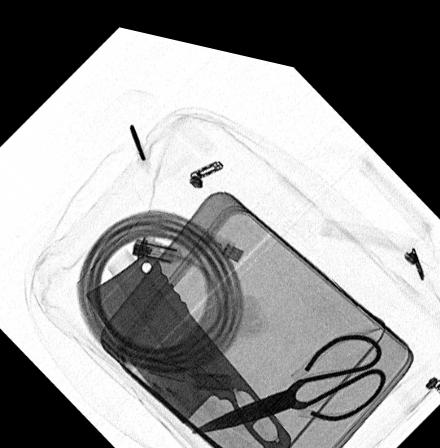Knife: (84, 246, 289, 448)
Scissors: (189, 317, 386, 422)
